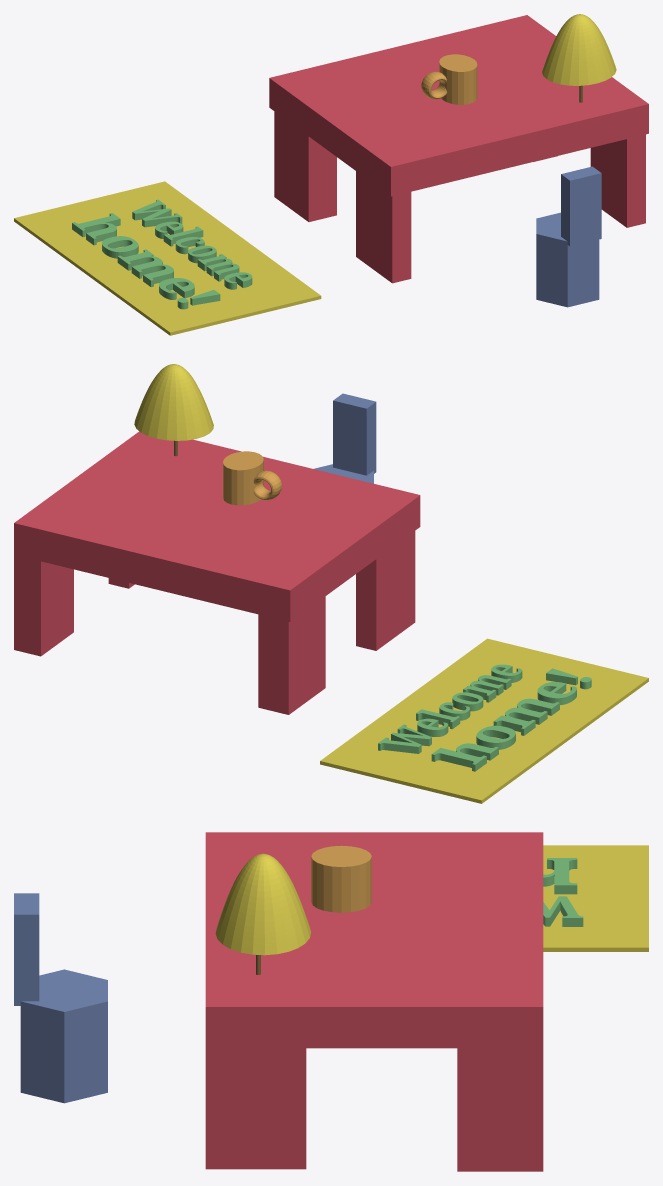
File: Epic Wluff-Lappi.glb
3 renders of one model, top to bottom at view 1: azimuth 30°, elevation 25°; view 2: azimuth 150°, elevation 25°; view 3: azimuth 270°, elevation 25°, orthographic. The views are drawn at different scales.
Parts seen in each view (by area): view 1: Mesh_Mesh_head_geo.001_lambert2SG.001; view 2: Mesh_Mesh_head_geo.001_lambert2SG.001; view 3: Mesh_Mesh_head_geo.001_lambert2SG.001.
Boxes of the visible parts, x1,y1,x2,y2 form: Mesh_Mesh_head_geo.001_lambert2SG.001: (14, 14, 648, 335); Mesh_Mesh_head_geo.001_lambert2SG.001: (14, 364, 648, 803); Mesh_Mesh_head_geo.001_lambert2SG.001: (14, 832, 648, 1171).
Bounding box in the file's own units: 151 × 62 × 126.
